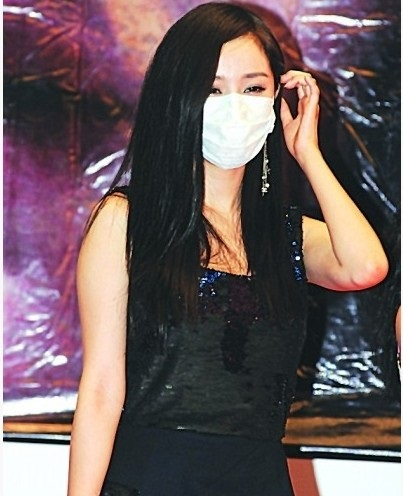face_mask: (190, 33, 273, 163)
